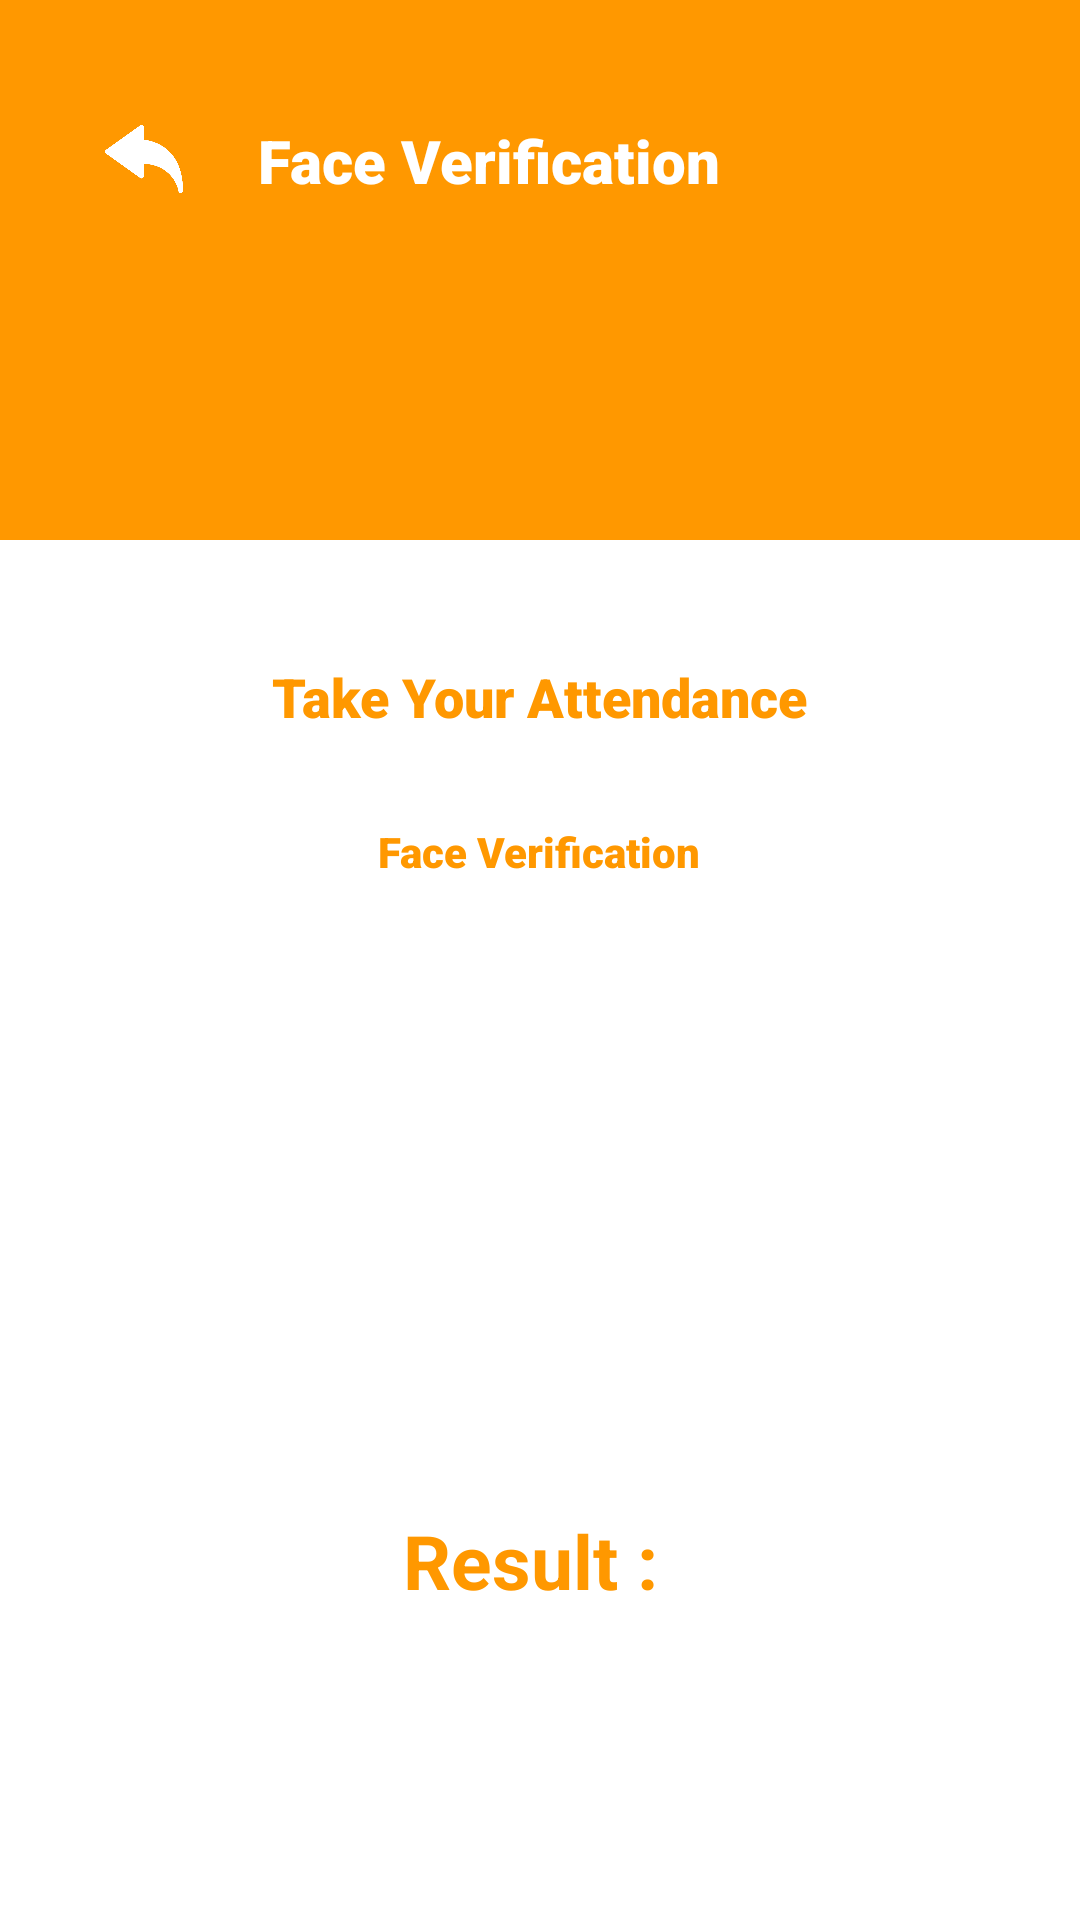

Where to tap for icons on this 1080px×1920px app screen, as (x=x, y=y):
back: (x=144, y=159)
